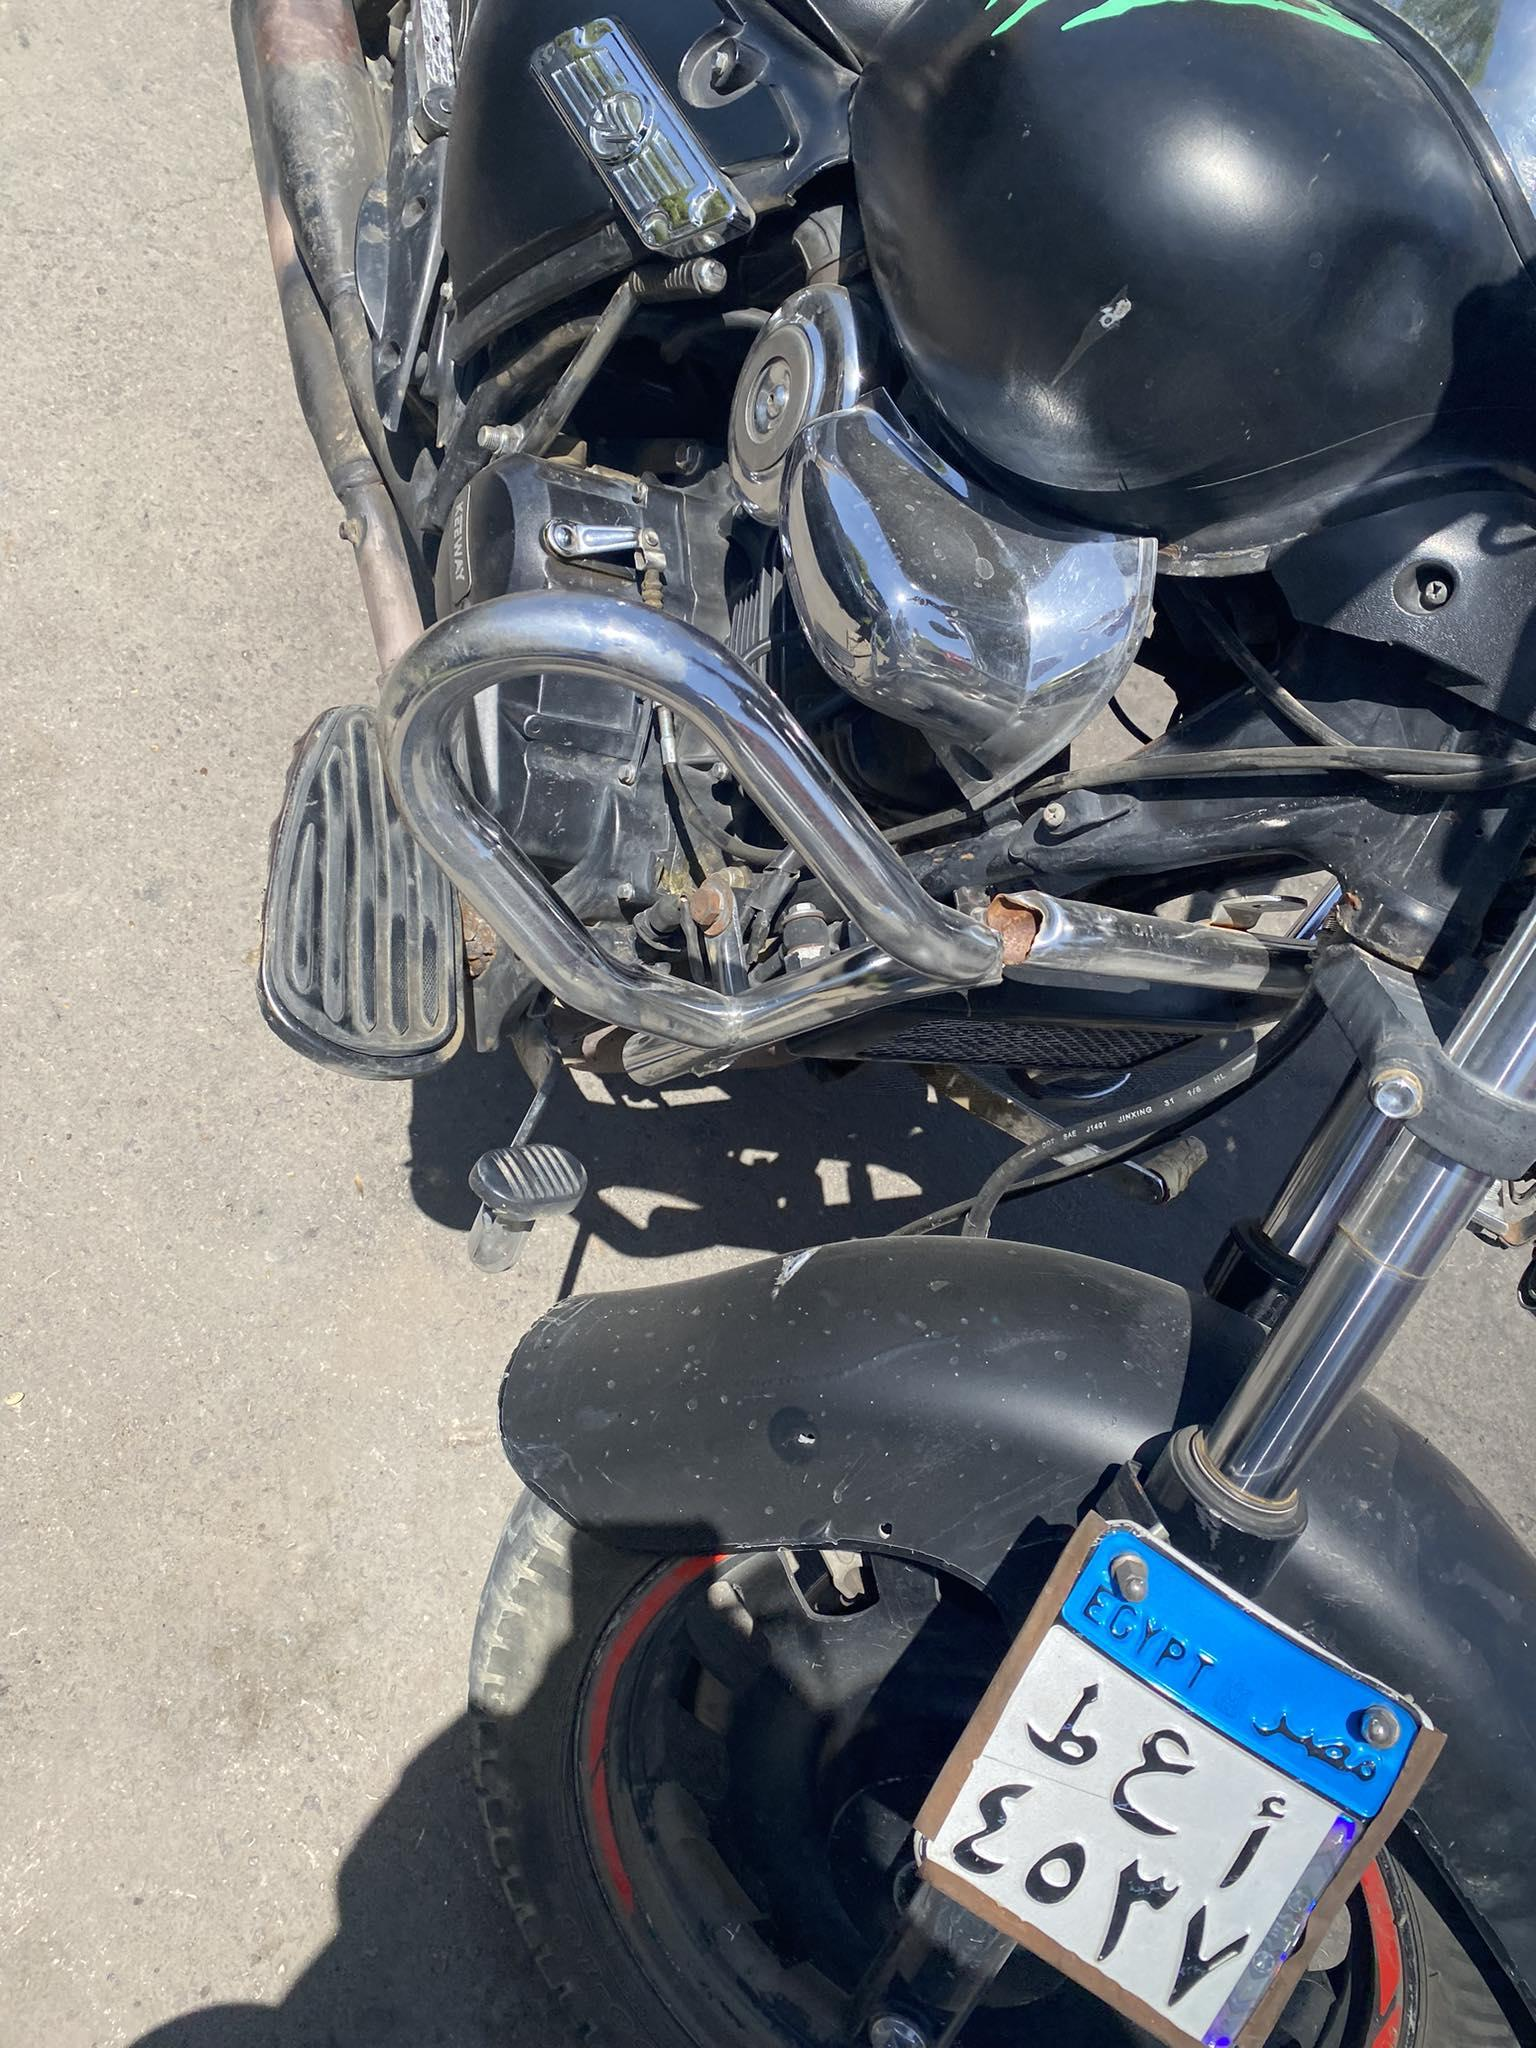License Plate: (921, 1495, 1414, 2039)
